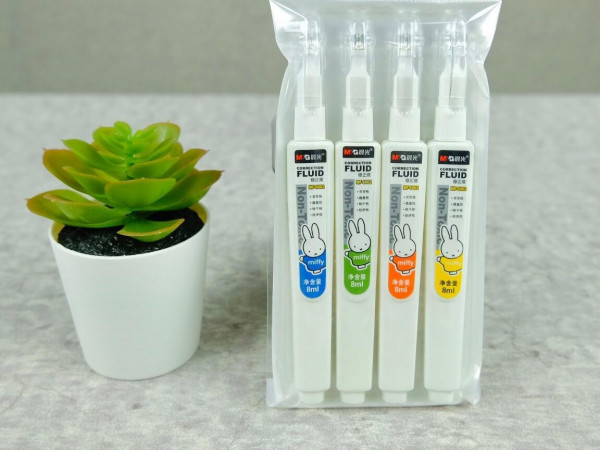Correction_fluid: (282, 29, 336, 407), (331, 33, 380, 405), (425, 18, 471, 409), (378, 28, 420, 406)
